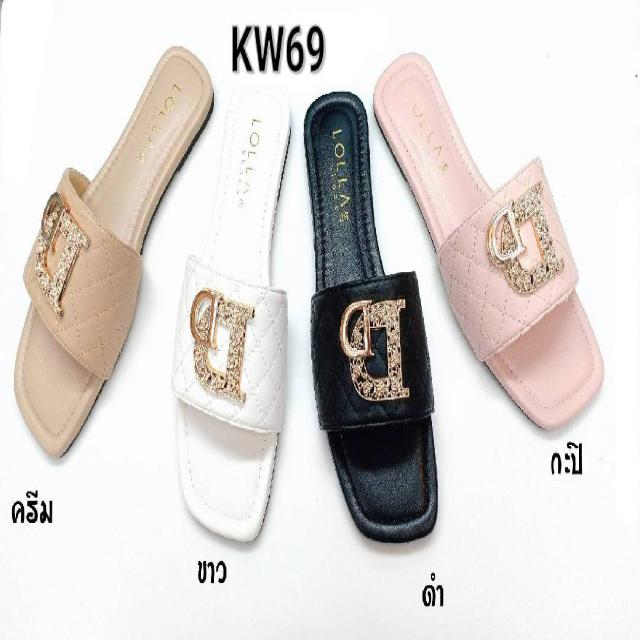black: (308, 94, 432, 529)
cream: (17, 44, 212, 452)
kapi: (376, 56, 605, 426)
white: (181, 83, 296, 543)
